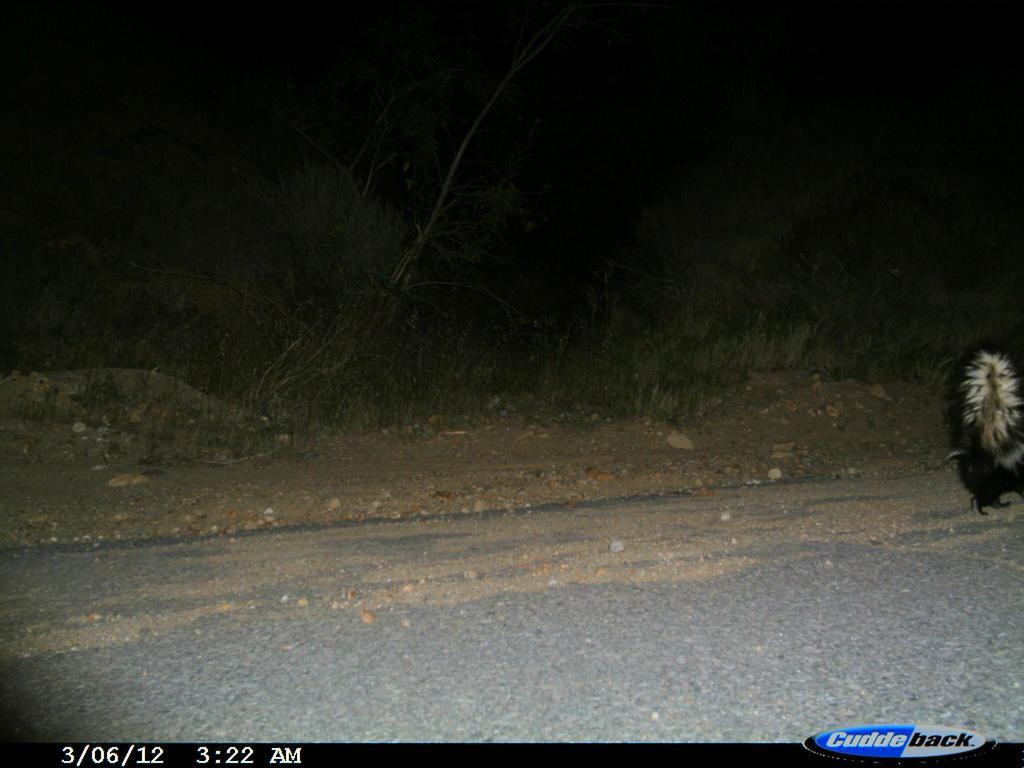skunk: (946, 340, 1023, 519)
